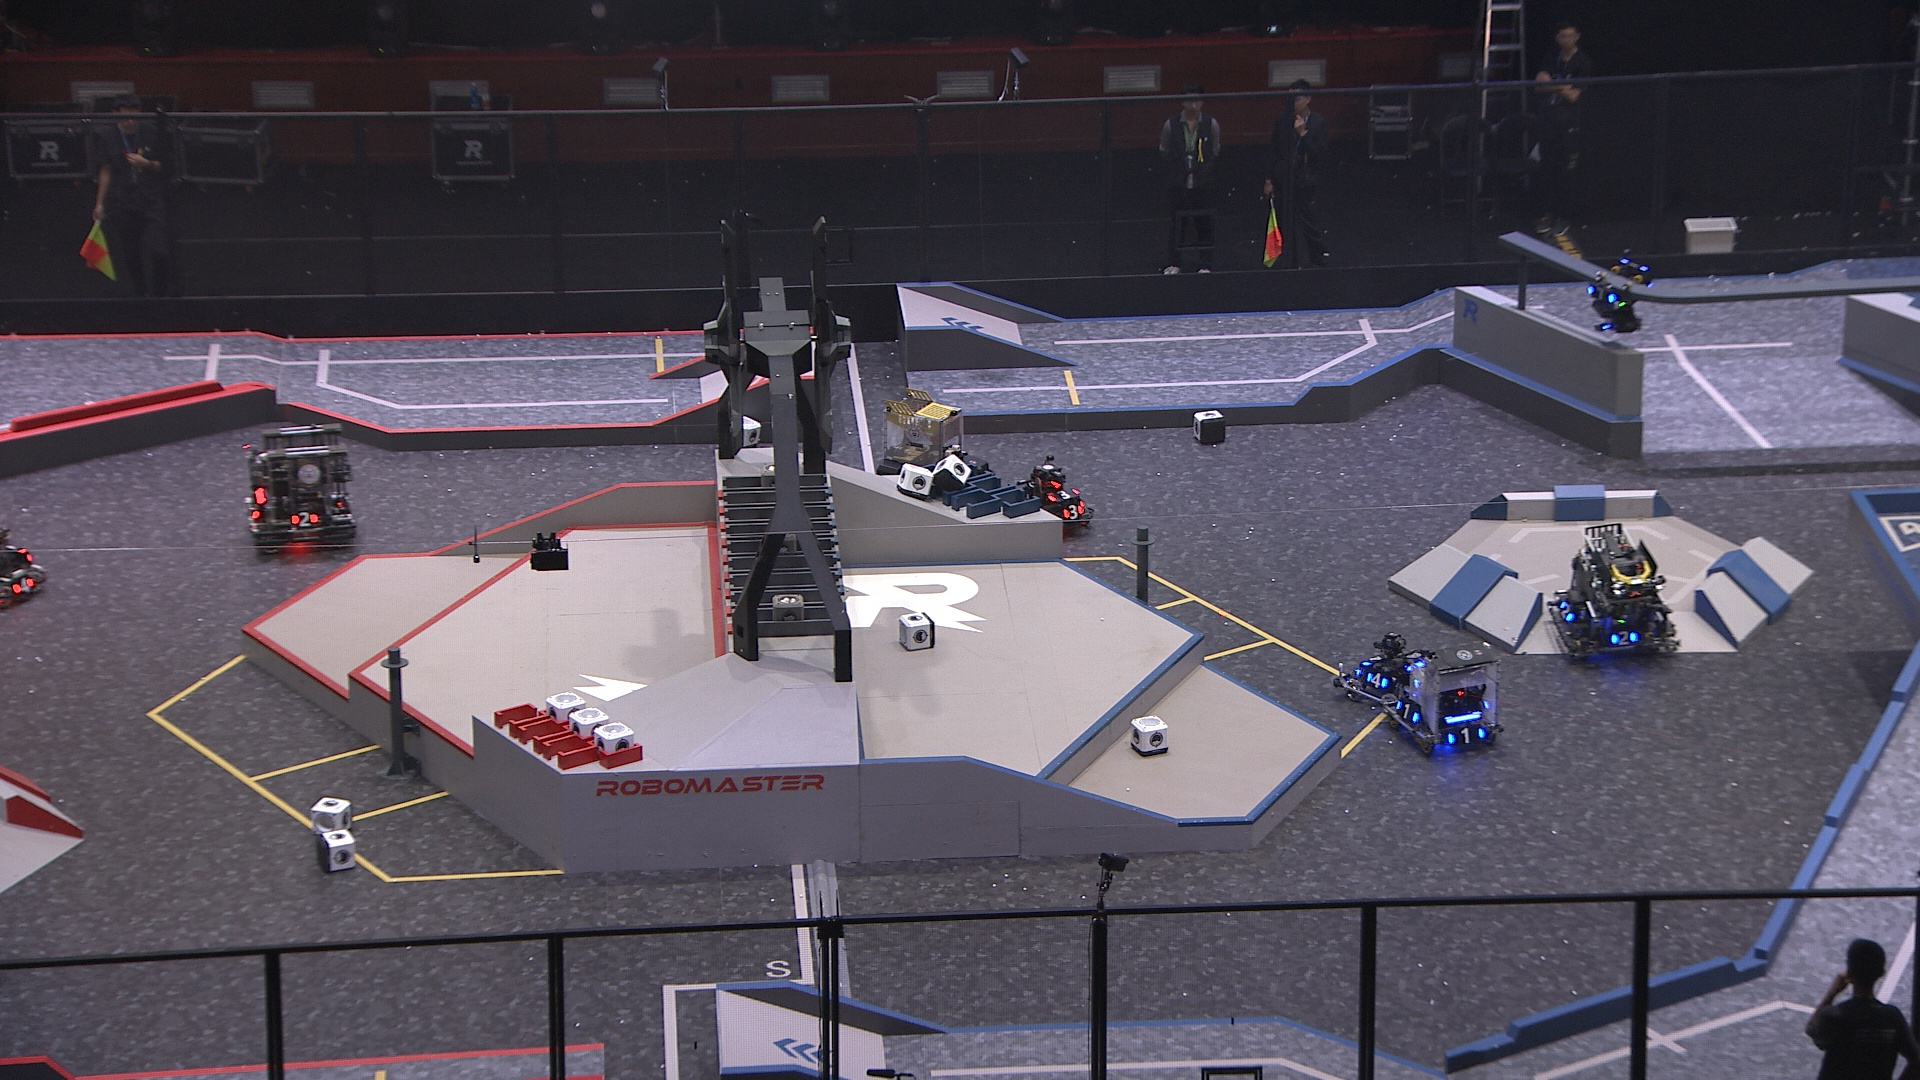armor: (289, 508, 320, 531), (1447, 727, 1485, 745), (1396, 698, 1420, 725), (1588, 285, 1617, 306), (1609, 632, 1640, 647), (11, 576, 36, 593), (1557, 599, 1575, 624), (1050, 488, 1077, 501), (1360, 654, 1385, 669), (1366, 673, 1389, 688), (1063, 504, 1087, 518), (247, 501, 261, 524)
car: (1544, 520, 1683, 662), (1378, 632, 1509, 757), (243, 419, 363, 555), (872, 396, 973, 513), (1332, 632, 1436, 713), (1015, 456, 1101, 541)
watcher: (1585, 256, 1652, 335)
